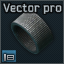KRISS Vector .45 ACP thread protection cap: (0, 0, 64, 64)
